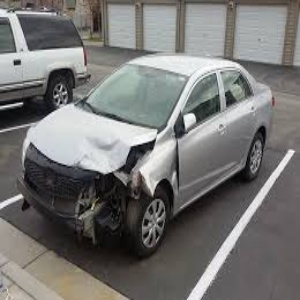bonnet: (78, 118, 151, 172)
bumper: (73, 170, 124, 250)
